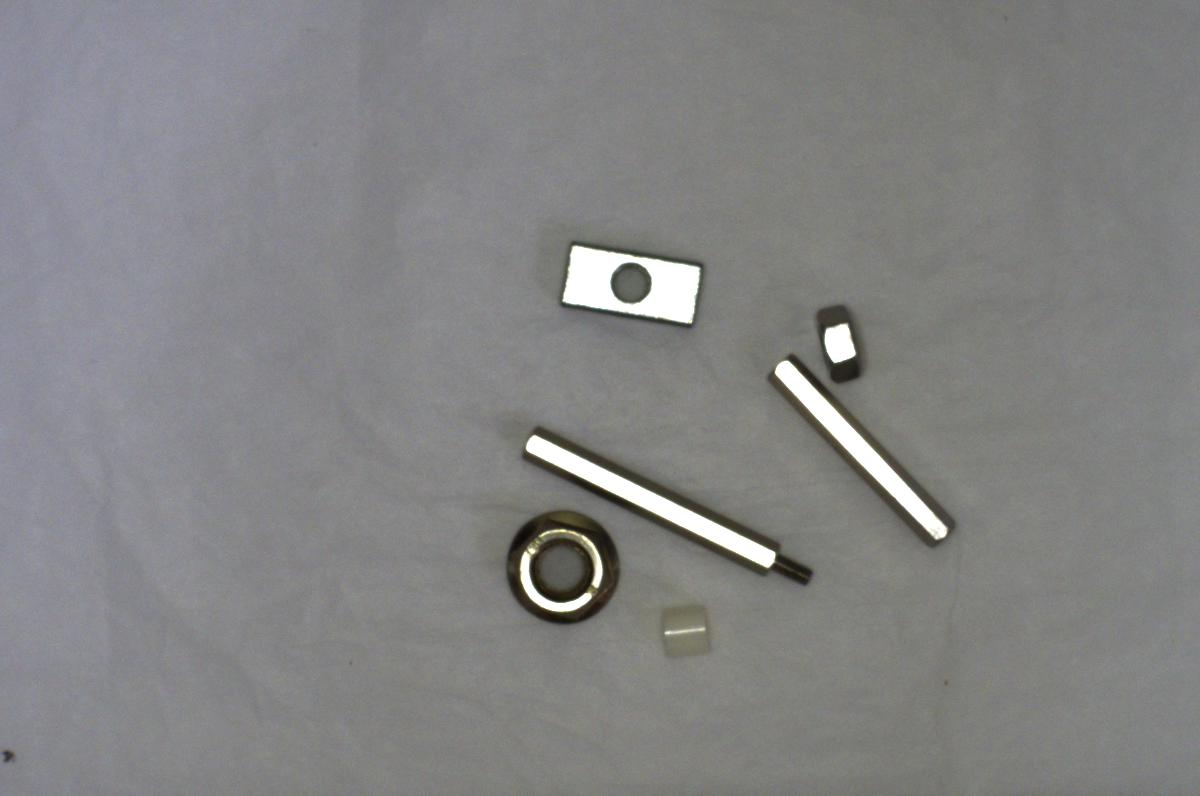Flange nut: (490, 503, 624, 628)
Hexagon nut: (798, 299, 870, 395)
Hexagonal steel column: (512, 426, 821, 588)
Plastic cushion pillar: (650, 593, 718, 663)
Rectangular nut: (559, 240, 712, 336)
Spring washer: (752, 353, 955, 550)
